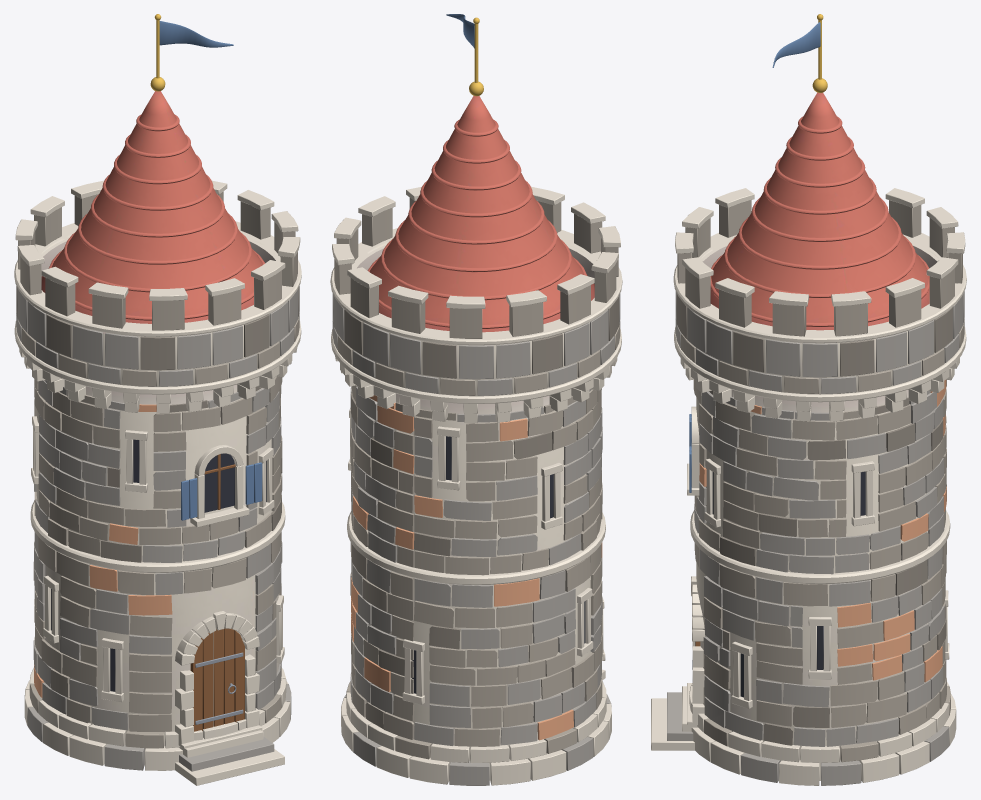
The model's file is great-wall-tower.glb.
The picture shows the model from 3 angles, left to right: view 1: azimuth 30°, elevation 25°; view 2: azimuth 150°, elevation 25°; view 3: azimuth 270°, elevation 25°; orthographic projection.
Visible parts, largest first — view 1: castle-tower_details, castle-tower_stonework, castle-tower_body; view 2: castle-tower_stonework, castle-tower_details, castle-tower_body; view 3: castle-tower_stonework, castle-tower_details, castle-tower_body.
Boxes of the visible parts, bbox=[...] form: castle-tower_details: bbox=[14, 14, 301, 785]; castle-tower_stonework: bbox=[33, 376, 282, 731]; castle-tower_body: bbox=[22, 91, 293, 765]; castle-tower_stonework: bbox=[350, 385, 602, 746]; castle-tower_details: bbox=[330, 14, 622, 785]; castle-tower_body: bbox=[344, 96, 608, 780]; castle-tower_stonework: bbox=[693, 379, 946, 746]; castle-tower_details: bbox=[651, 14, 966, 785]; castle-tower_body: bbox=[687, 92, 953, 780].
Size of the model in its own units: 6.16 by 16.55 by 6.63.
13 materials, 1 textured.
